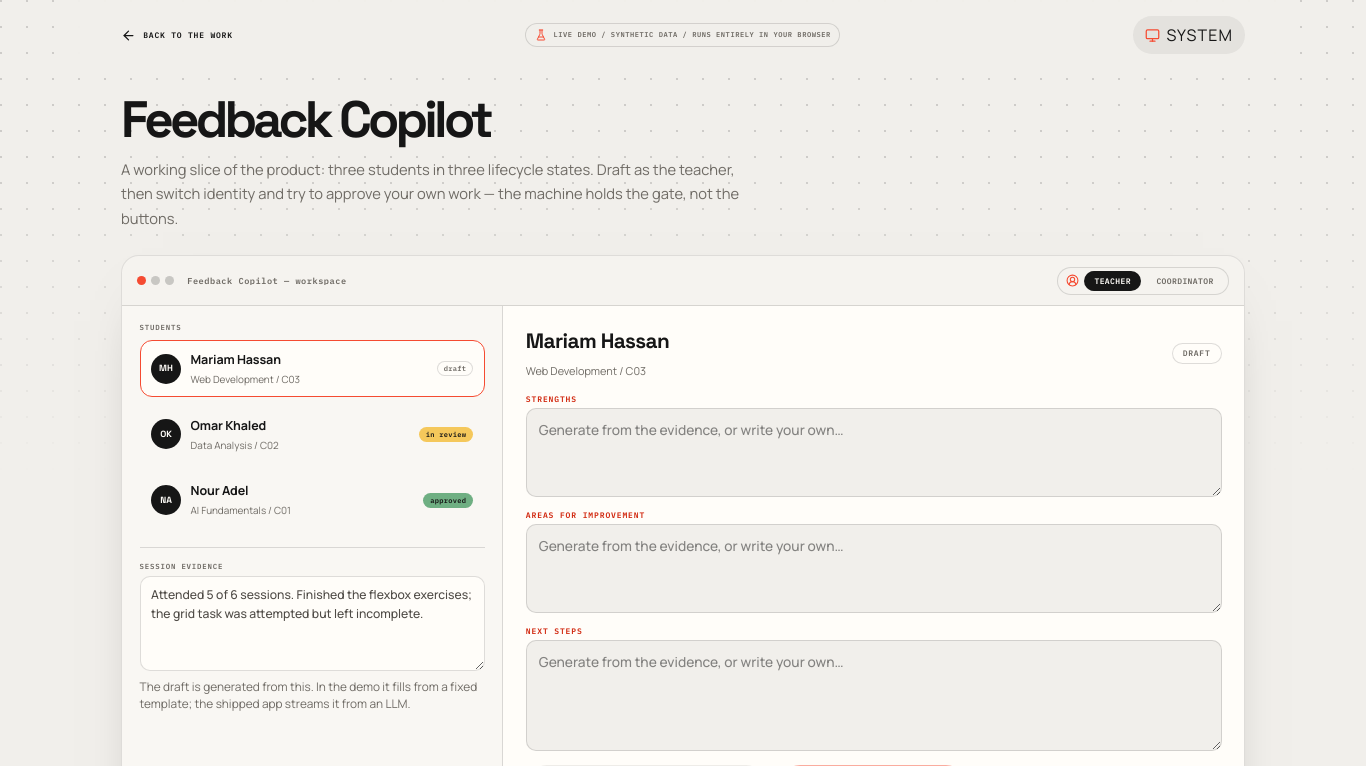
Test: feedback demo roster › seeds the full lifecycle: a draft, one in review, one approved
The image size is (1366, 766).
Expected: the text "in review" is shown, [419,427,474,442]
Expected: the text "approved" is shown, [423,493,474,508]
# The coordinator sees the queue count without hunting for it.
Click the button "coordinator" at (1185,281), box [1146,271,1224,291]
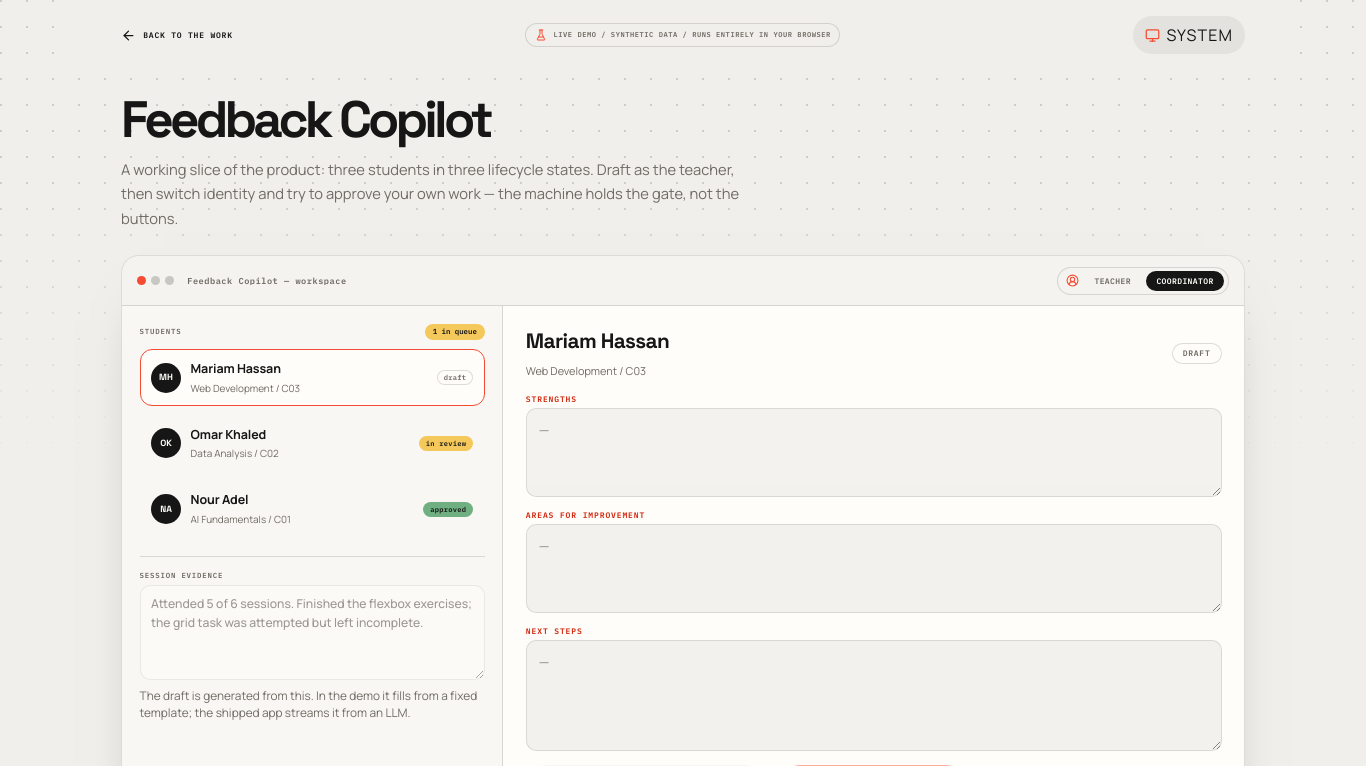
Expected: the text "1 in queue" is shown, [425,324,485,340]
